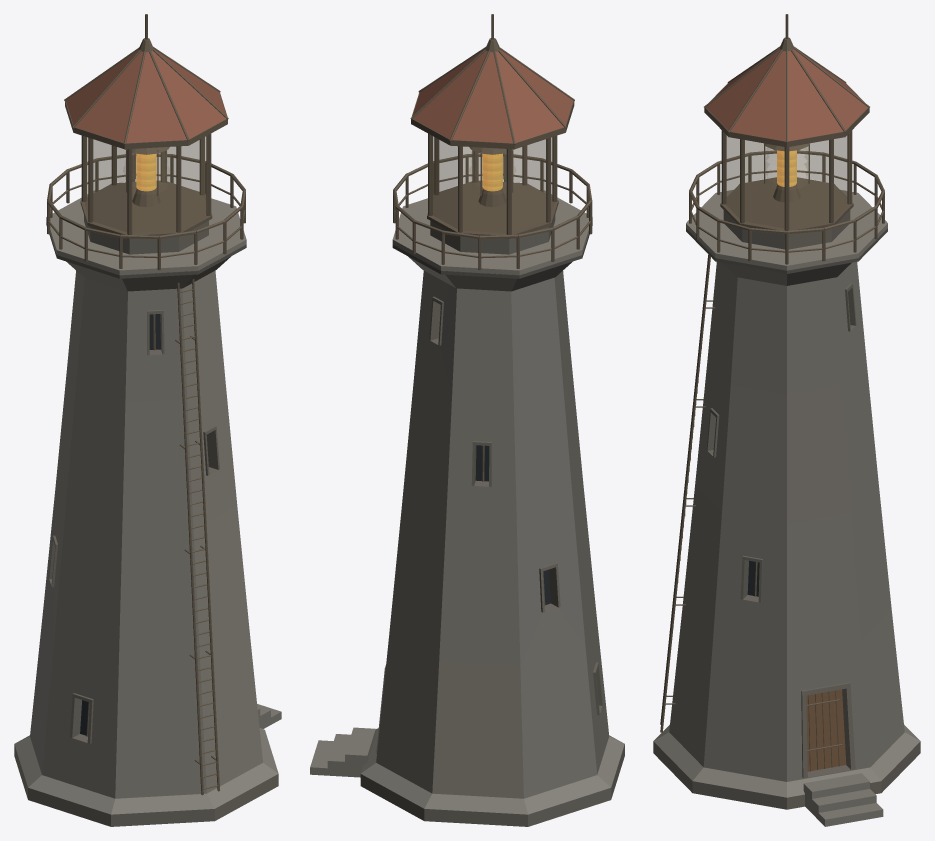
The model's file is lighthouse.glb.
3 views of the same model, side by side, from view 1: azimuth 30°, elevation 25°; view 2: azimuth 150°, elevation 25°; view 3: azimuth 270°, elevation 25° (orthographic). The views are drawn at different scales.
Parts seen in each view (by area): view 1: Opaque_Limestone 1, Opaque_Limestone 0, Opaque_Limestone 2, Opaque_Dark forged bronze, Opaque_Oxidised terracotta roof, Opaque_Weathered sandstone edges, Opaque_Limestone 3, Lantern glazed panel 5, Lantern glazed panel 4, Opaque_Deep weathered gallery corbel stone, Lantern glazed panel 6, Lantern glazed panel 0 (+3 smaller); view 2: Opaque_Limestone 2, Opaque_Limestone 1, Opaque_Limestone 3, Opaque_Dark forged bronze, Opaque_Oxidised terracotta roof, Opaque_Weathered sandstone edges, Opaque_Limestone 0, Lantern glazed panel 2, Lantern glazed panel 3, Opaque_Deep weathered gallery corbel stone, Lantern glazed panel 1, Lantern glazed panel 7 (+3 smaller); view 3: Opaque_Limestone 3, Opaque_Limestone 0, Opaque_Limestone 1, Opaque_Limestone 2, Opaque_Dark forged bronze, Opaque_Oxidised terracotta roof, Opaque_Weathered sandstone edges, Lantern glazed panel 0, Lantern glazed panel 7, Opaque_Oak door boards, Opaque_Deep weathered gallery corbel stone, Lantern glazed panel 1 (+6 smaller).
Part boxes in pixels (x1,y1,x2,y2): Opaque_Limestone 1: (14, 288, 281, 814); Opaque_Limestone 0: (42, 277, 127, 798); Opaque_Limestone 2: (46, 190, 262, 793); Opaque_Dark forged bronze: (47, 14, 245, 795); Opaque_Oxidised terracotta roof: (66, 49, 226, 143); Opaque_Weathered sandstone edges: (14, 215, 278, 826); Opaque_Limestone 3: (30, 270, 84, 774); Lantern glazed panel 5: (132, 147, 176, 232); Lantern glazed panel 4: (92, 139, 126, 231); Opaque_Deep weathered gallery corbel stone: (46, 222, 246, 291); Lantern glazed panel 6: (181, 136, 207, 228); Lantern glazed panel 0: (167, 141, 198, 190); Opaque_Limestone 2: (392, 190, 592, 798); Opaque_Limestone 1: (310, 270, 624, 814); Opaque_Limestone 3: (511, 277, 597, 798); Opaque_Dark forged bronze: (393, 14, 592, 605); Opaque_Oxidised terracotta roof: (412, 49, 573, 143); Opaque_Weathered sandstone edges: (360, 215, 624, 826); Opaque_Limestone 0: (554, 271, 609, 774); Lantern glazed panel 2: (462, 147, 506, 232); Lantern glazed panel 3: (512, 139, 546, 231); Opaque_Deep weathered gallery corbel stone: (392, 223, 592, 291); Lantern glazed panel 1: (431, 136, 457, 228); Lantern glazed panel 7: (440, 141, 471, 190); Opaque_Limestone 3: (703, 277, 786, 781); Opaque_Limestone 0: (787, 277, 870, 781); Opaque_Limestone 1: (653, 262, 920, 826); Opaque_Limestone 2: (669, 190, 887, 766); Opaque_Dark forged bronze: (660, 14, 884, 771); Opaque_Oxidised terracotta roof: (706, 49, 867, 141); Opaque_Weathered sandstone edges: (653, 210, 920, 809); Lantern glazed panel 0: (789, 140, 829, 227); Lantern glazed panel 7: (744, 140, 784, 227); Opaque_Oak door boards: (806, 689, 846, 771); Opaque_Deep weathered gallery corbel stone: (686, 228, 887, 285); Lantern glazed panel 1: (834, 133, 849, 218).
Bounding box in the file's own units: 9.26 × 24.5 × 8.03.
